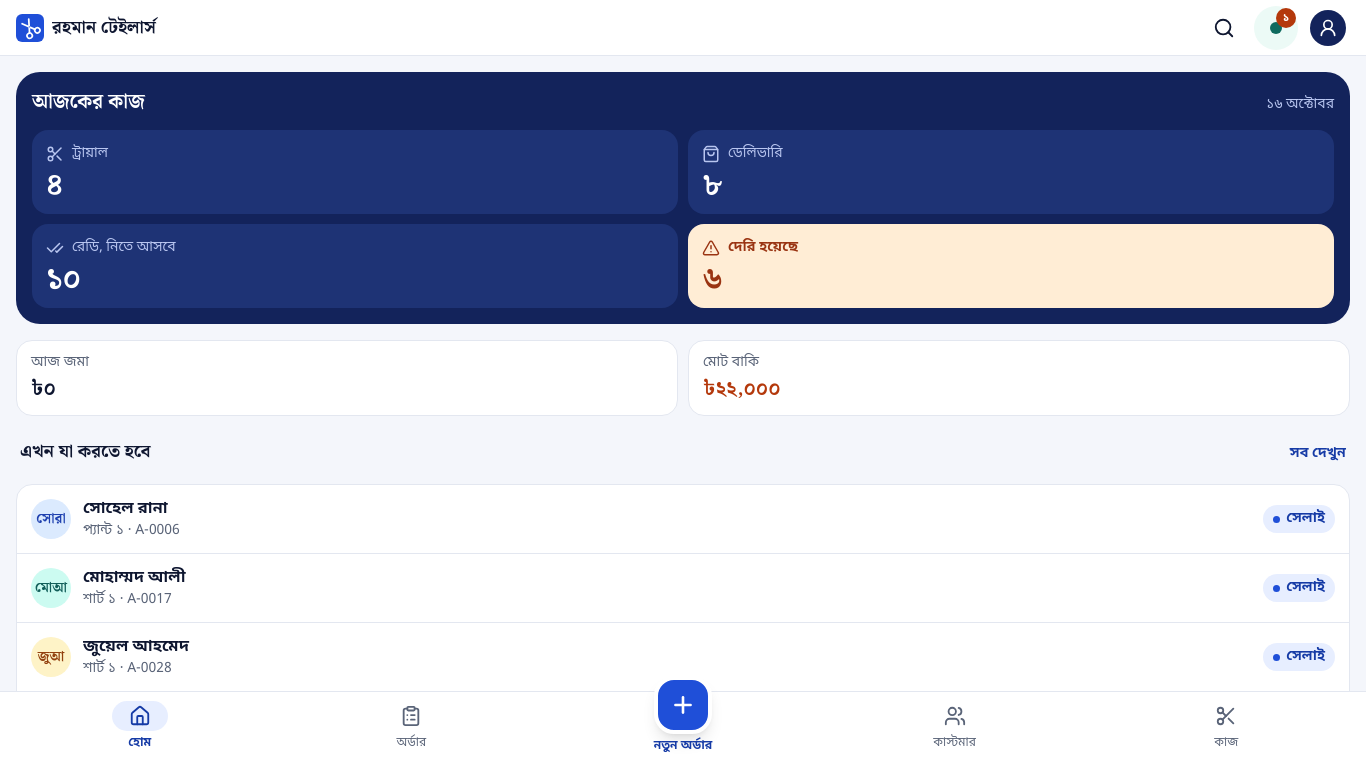
Test: App › uses bottom tabs on mobile with a centre New Order button, and Payments in the account menu
Check: the links read "হোম", "অর্ডার", "নতুন অর্ডার", "কাস্টমার", "কাজ", in this order, box [112,701,168,751]; [397,705,426,751]; [654,676,712,754]; [933,705,976,751]; [1214,705,1238,751]
Check: the link "আরও" is not shown
What coordinates should you click on to do the following:
click the button named "অ্যাকাউন্ট ও আরও"
I would click on:
 (1328, 28)
Its box is [1306,6,1350,50].
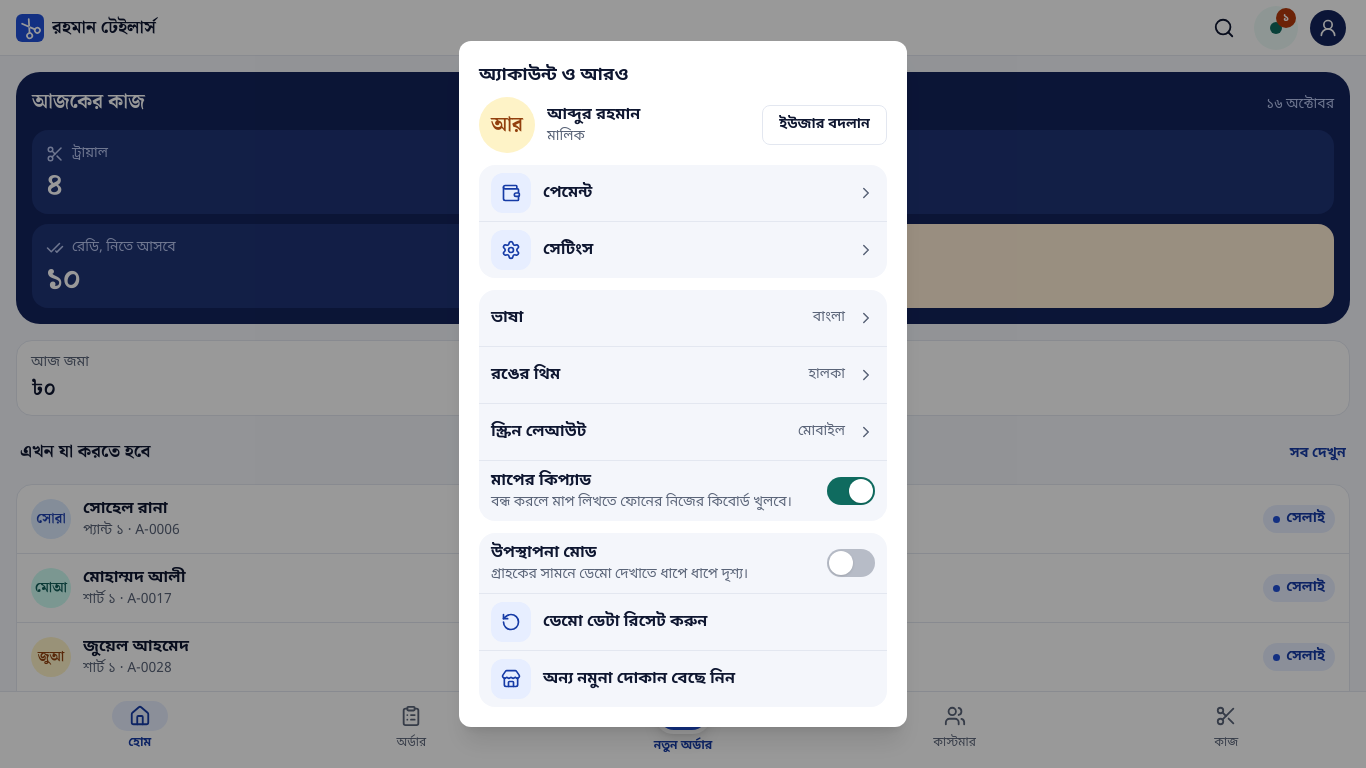
Check: the link "পেমেন্ট" is shown, box [479,165,887,222]
Check: the link "সেটিংস" is shown, box [479,222,887,278]
Check: the button "ইউজার বদলান" is shown, box [762,105,887,145]
